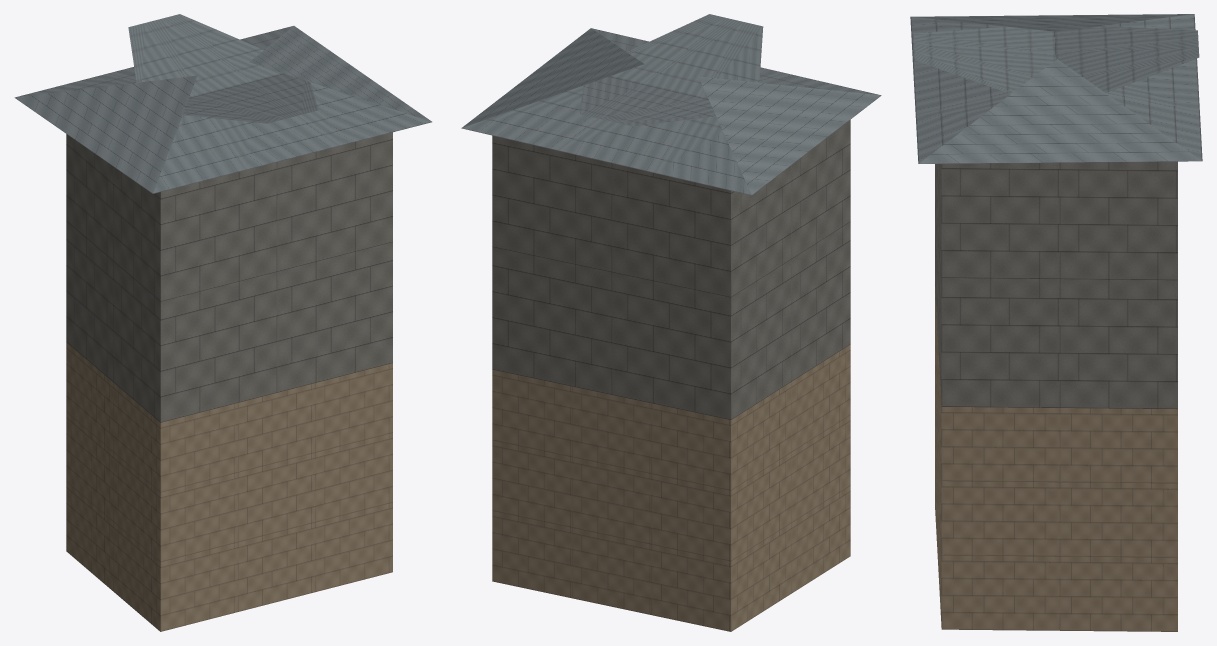
File: bld_c15_11_516.gltf
The picture shows the model from 3 angles, left to right: view 1: azimuth 30°, elevation 25°; view 2: azimuth 150°, elevation 25°; view 3: azimuth 270°, elevation 25°; orthographic projection. The views are drawn at different scales.
Visible parts, largest first — view 1: bld_c15_11_516; view 2: bld_c15_11_516; view 3: bld_c15_11_516.
Boxes of the visible parts, x1,y1,x2,y2 form: bld_c15_11_516: [14, 14, 431, 631]; bld_c15_11_516: [461, 14, 881, 631]; bld_c15_11_516: [910, 14, 1202, 631].
Bounding box in the file's own units: 7.37 × 12 × 6.06.
3 materials, 3 textured.
